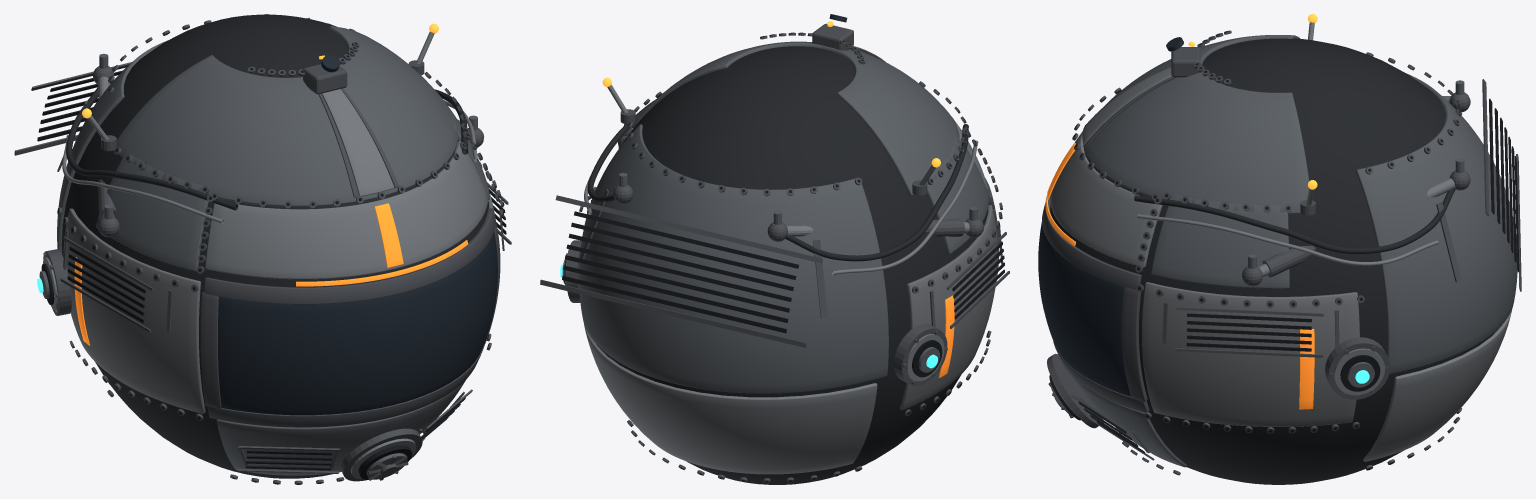
Rendered from helmet.glb.
The picture shows the model from 3 angles, left to right: view 1: azimuth 30°, elevation 25°; view 2: azimuth 150°, elevation 25°; view 3: azimuth 270°, elevation 25°; orthographic projection. The views are drawn at different scales.
Visible parts, largest first — view 1: Crown_Main_Plate, Visor_Smoked_Panel, Inner_Seal_Liner, Forehead_Armor, Cheek_R, Temple_R, Jaw_Armor, Visor_Frame_Top, Visor_Frame_Bottom, Crest_Brushed_Strip, Occipital_Plate, Visor_Frame_R (+10 smaller); view 2: Occipital_Plate, Inner_Seal_Liner, Nape_Plate, Crown_Main_Plate, Cheek_R, Temple_R, Cable_Upper_R, Vent_Occiput_Edge, Vent_Occiput_Edge.001, Ear_Housing_R, Vent_Occiput_Slot_01, Vent_Occiput_Slot_02 (+13 smaller); view 3: Inner_Seal_Liner, Occipital_Plate, Crown_Main_Plate, Cheek_L, Visor_Smoked_Panel, Temple_L, Forehead_Armor, Nape_Plate, Cable_Upper_L, Jaw_Armor, Visor_Frame_L, Visor_Frame_Top (+19 smaller).
Boxes of the visible parts, box(x1,y1,x2,y2) form: Crown_Main_Plate: box(117, 26, 458, 206); Visor_Smoked_Panel: box(218, 231, 497, 415); Inner_Seal_Liner: box(61, 14, 488, 478); Forehead_Armor: box(205, 141, 488, 279); Cheek_R: box(63, 208, 205, 413); Temple_R: box(96, 151, 209, 271); Jaw_Armor: box(216, 380, 465, 475); Visor_Frame_Top: box(204, 208, 495, 304); Visor_Frame_Bottom: box(207, 344, 484, 427); Crest_Brushed_Strip: box(321, 89, 394, 196); Occipital_Plate: box(57, 40, 167, 254); Visor_Frame_R: box(200, 292, 221, 408); Occipital_Plate: box(579, 124, 888, 393); Inner_Seal_Liner: box(596, 46, 989, 484); Nape_Plate: box(584, 324, 877, 474); Crown_Main_Plate: box(631, 41, 959, 196); Cheek_R: box(900, 205, 997, 410); Temple_R: box(926, 134, 989, 253); Cable_Upper_R: box(785, 124, 968, 261); Vent_Occiput_Edge: box(540, 279, 806, 347); Vent_Occiput_Edge.001: box(555, 195, 822, 263); Ear_Housing_R: box(894, 324, 947, 385); Vent_Occiput_Slot_01: box(562, 276, 786, 333); Vent_Occiput_Slot_02: box(563, 265, 788, 322); Inner_Seal_Liner: box(1050, 38, 1501, 484); Occipital_Plate: box(1356, 74, 1517, 373); Crown_Main_Plate: box(1083, 35, 1309, 214); Cheek_L: box(1142, 282, 1359, 426); Visor_Smoked_Panel: box(1038, 222, 1130, 396); Temple_L: box(1151, 194, 1289, 288); Forehead_Armor: box(1050, 131, 1162, 267); Nape_Plate: box(1363, 309, 1512, 461); Cable_Upper_L: box(1134, 188, 1455, 253); Jaw_Armor: box(1073, 377, 1186, 467); Visor_Frame_L: box(1121, 287, 1147, 402); Visor_Frame_Top: box(1042, 196, 1141, 290).
Size of the model in its own units: 2.01 by 2.12 by 2.17.
